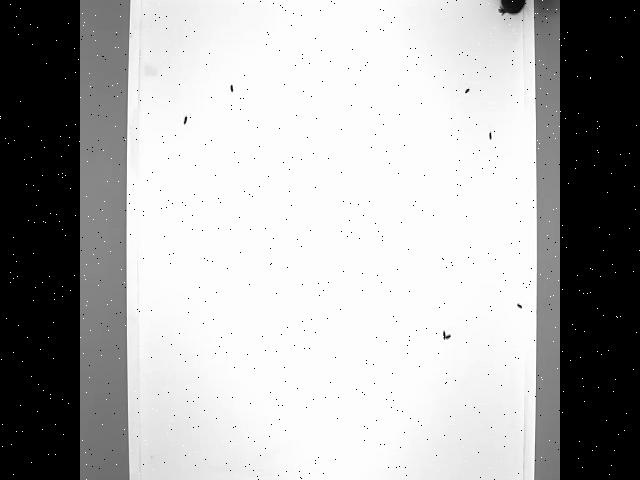Tikus: (484, 0, 528, 15)
